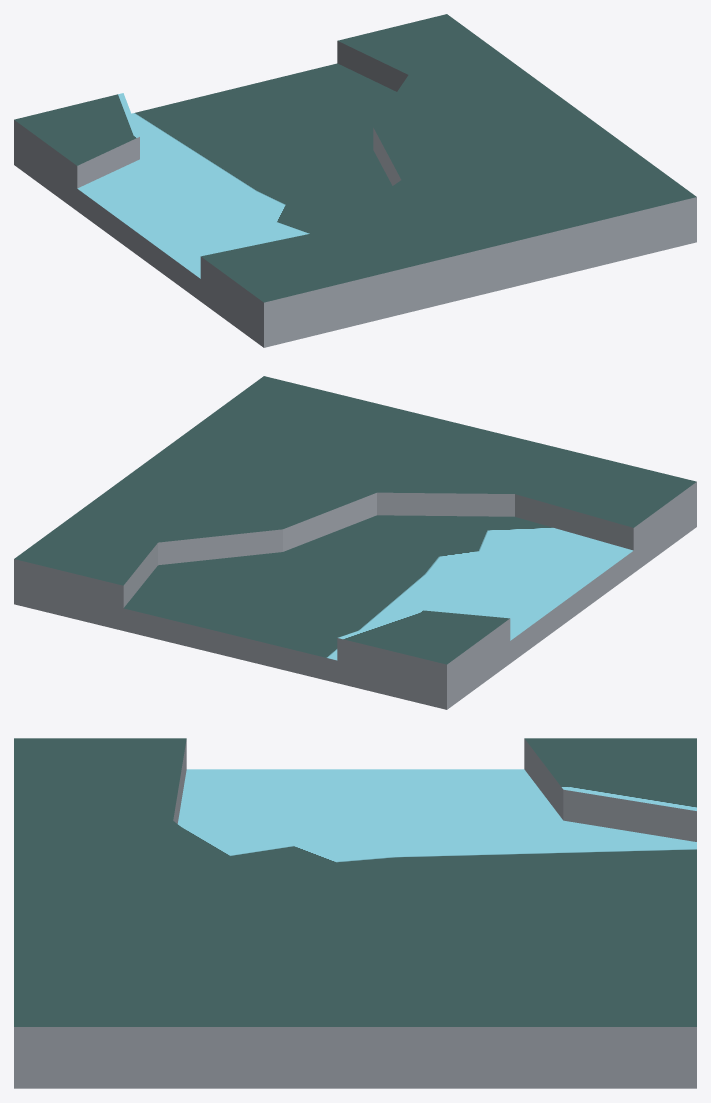
The model's file is Plate_River_Corner_01.obj.
3 renders of one model, top to bottom at view 1: azimuth 30°, elevation 25°; view 2: azimuth 150°, elevation 25°; view 3: azimuth 270°, elevation 25°, orthographic. The views are drawn at different scales.
Parts seen in each view (by area): view 1: Mesh1 Plate_River_Corner Model; view 2: Mesh1 Plate_River_Corner Model; view 3: Mesh1 Plate_River_Corner Model.
Boxes of the visible parts, x1,y1,x2,y2 form: Mesh1 Plate_River_Corner Model: (14,14,696,347); Mesh1 Plate_River_Corner Model: (14,376,696,709); Mesh1 Plate_River_Corner Model: (14,738,696,1088).
Bounding box in the file's own units: 3 × 0.3 × 3.
1 material, 1 textured.
